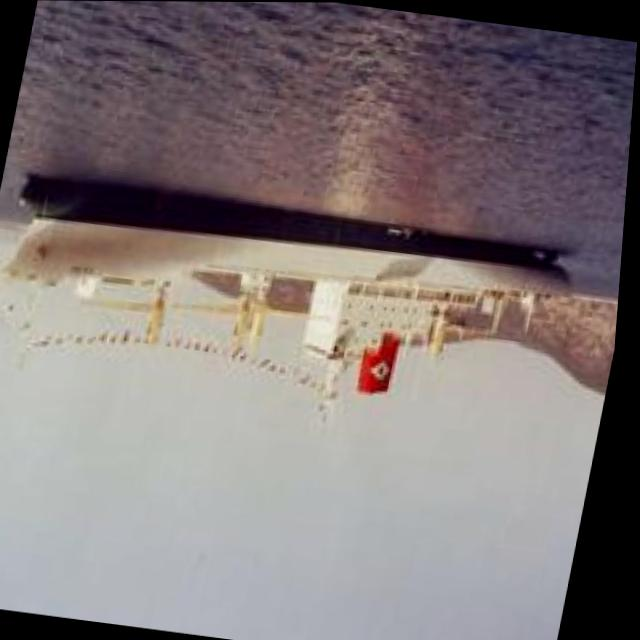ship2: (0, 176, 583, 409)
